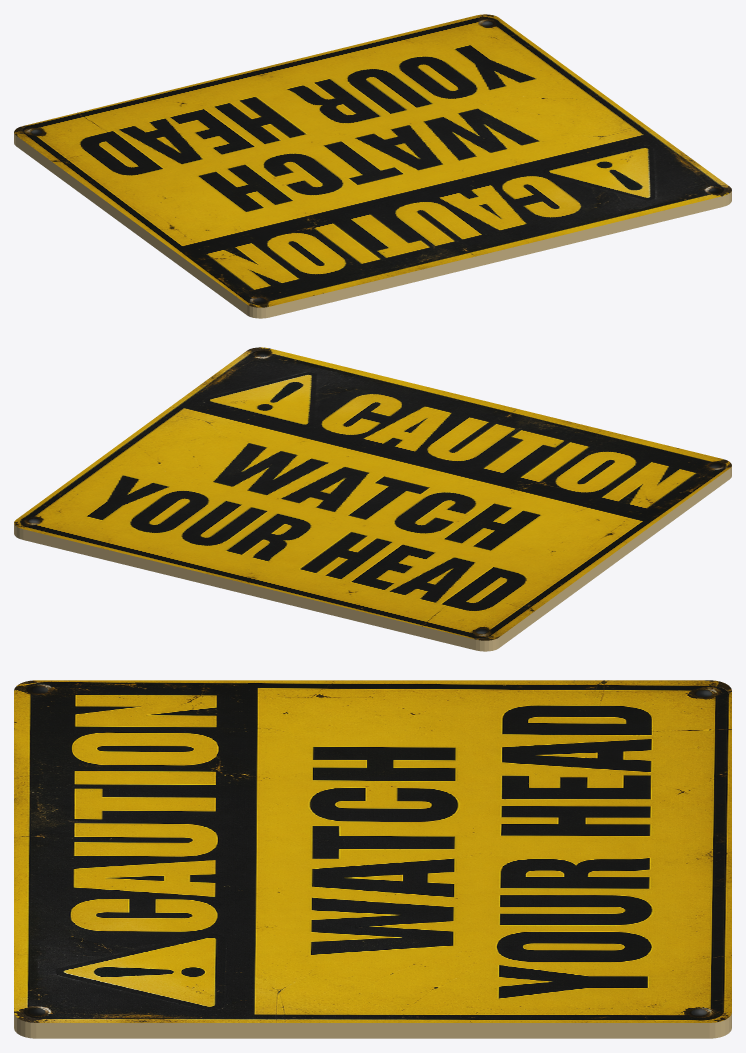
File: warning.glb
3 renders of one model, top to bottom at view 1: azimuth 30°, elevation 25°; view 2: azimuth 150°, elevation 25°; view 3: azimuth 270°, elevation 25°, orthographic. The views are drawn at different scales.
Parts seen in each view (by area): view 1: Cube; view 2: Cube; view 3: Cube.
Boxes of the visible parts, x1,y1,x2,y2 form: Cube: (14, 14, 731, 318); Cube: (14, 347, 731, 651); Cube: (14, 680, 731, 1038).
Bounding box in the file's own units: 2.26 × 0.0484 × 2.
2 materials, 1 textured.
